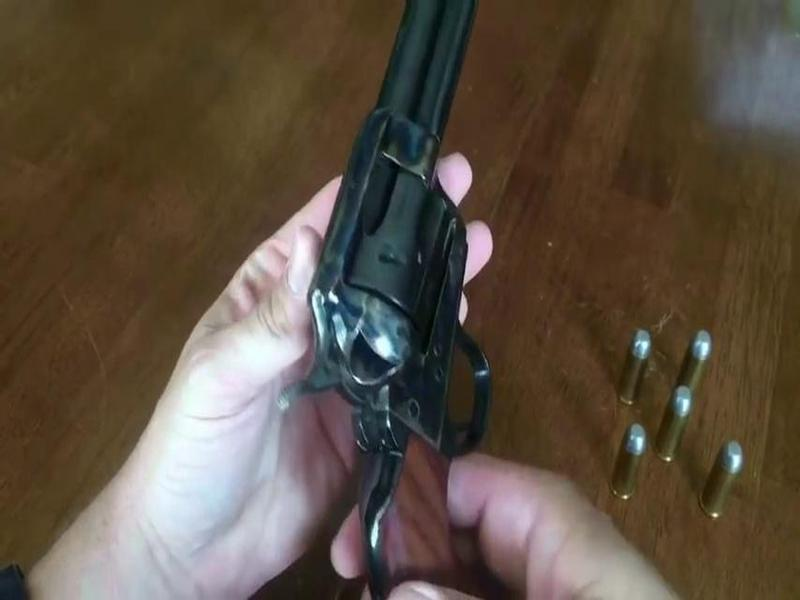Revolver: (276, 12, 547, 594)
